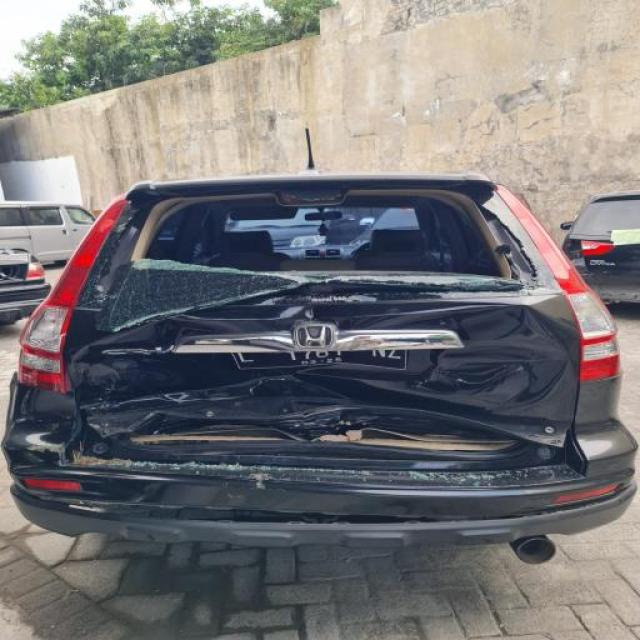crush: (14, 295, 584, 498)
shatter: (86, 185, 562, 307)
